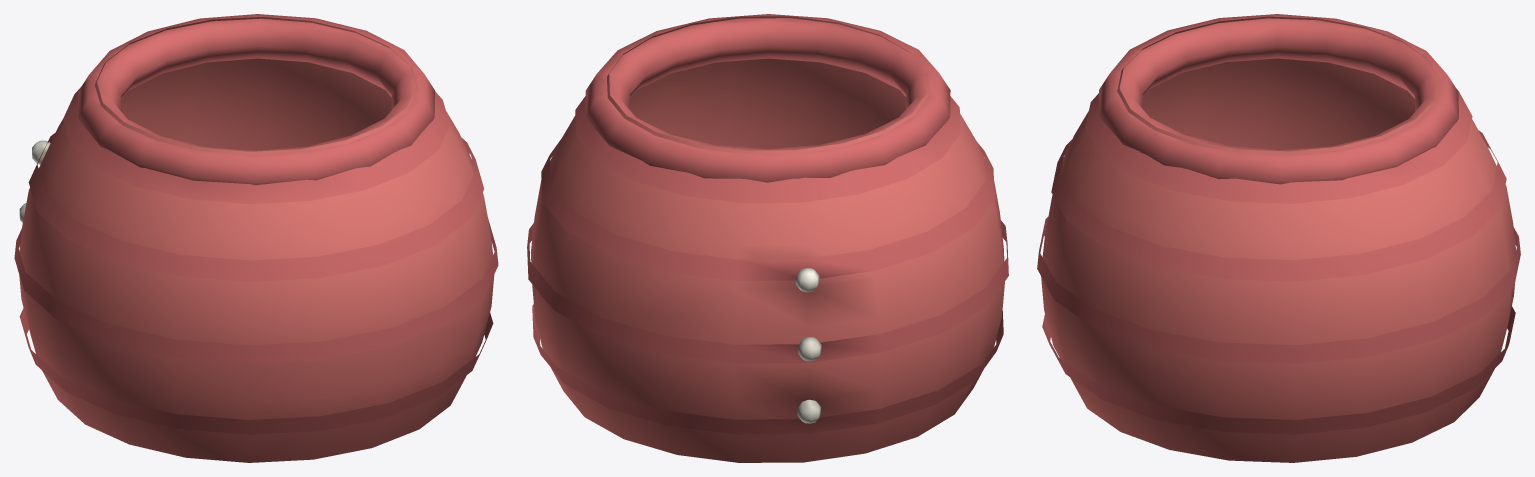
Rendered from flannel_chest.fbx.
3 views of the same model, side by side, from view 1: azimuth 30°, elevation 25°; view 2: azimuth 150°, elevation 25°; view 3: azimuth 270°, elevation 25° (orthographic).
Visible parts, largest first — view 1: flannel_chest; view 2: flannel_chest; view 3: flannel_chest.
Boxes of the visible parts, left/top/right/bottom form: flannel_chest: left=14, top=14, right=498, bottom=462; flannel_chest: left=527, top=14, right=1008, bottom=462; flannel_chest: left=1037, top=14, right=1520, bottom=462.
Size of the model in its own units: 1.73 by 1.15 by 1.73.
